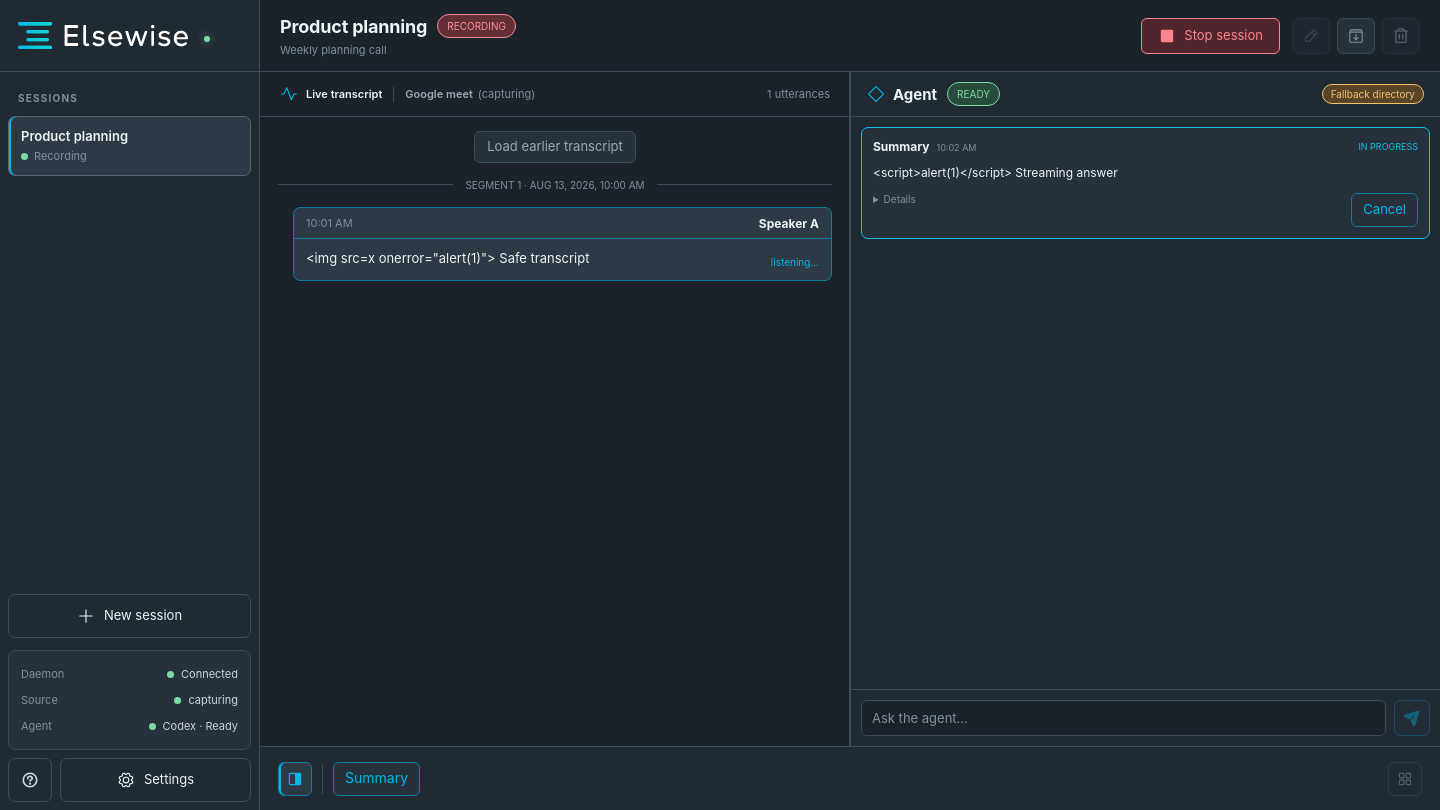
App live › keeps long transcripts bounded and cursor-loads earlier utterances
Step 1. Click the button "Load earlier transcript" → (555, 147), box [474,131,636,163]
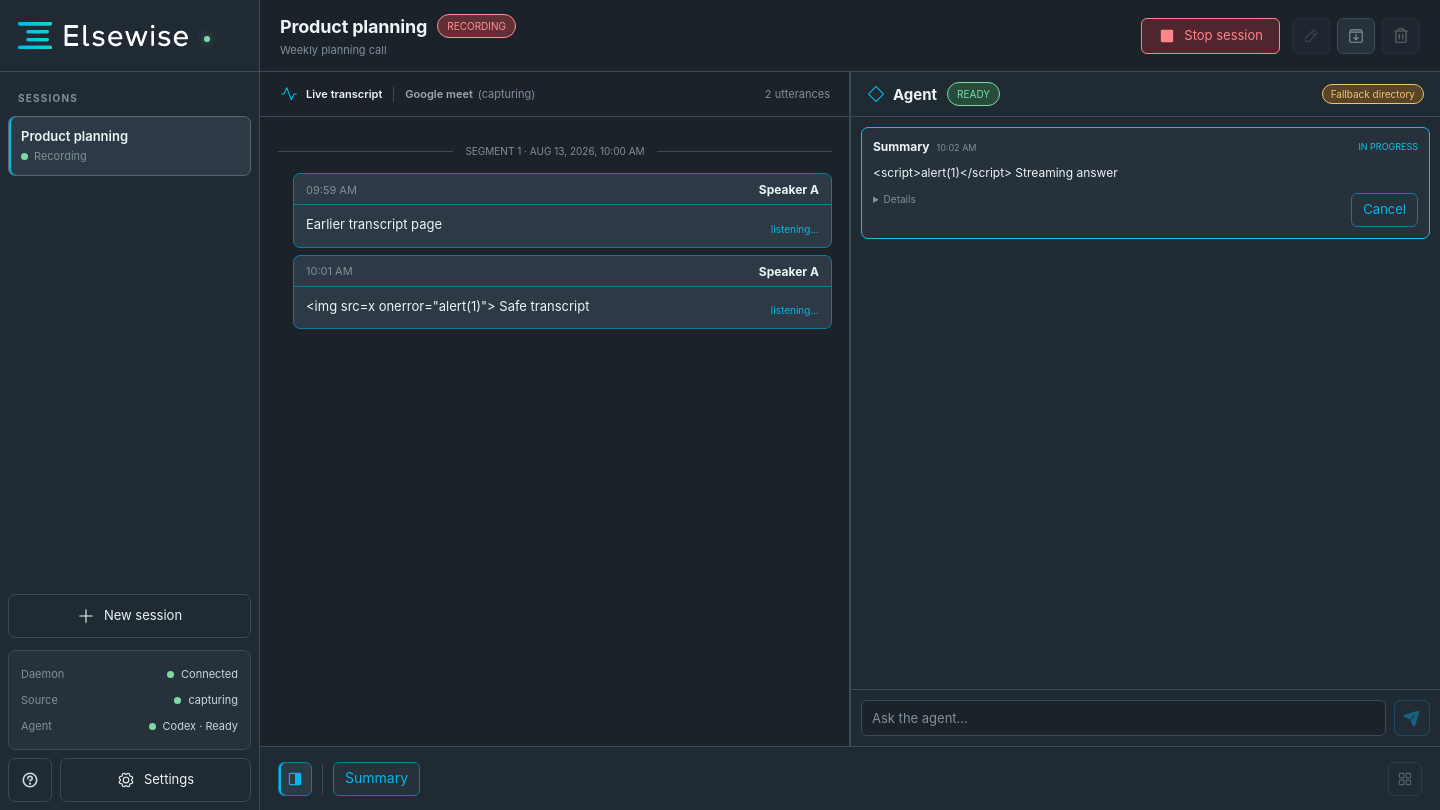
Now the text "Earlier transcript page" is shown, box [306,216,442,232]
